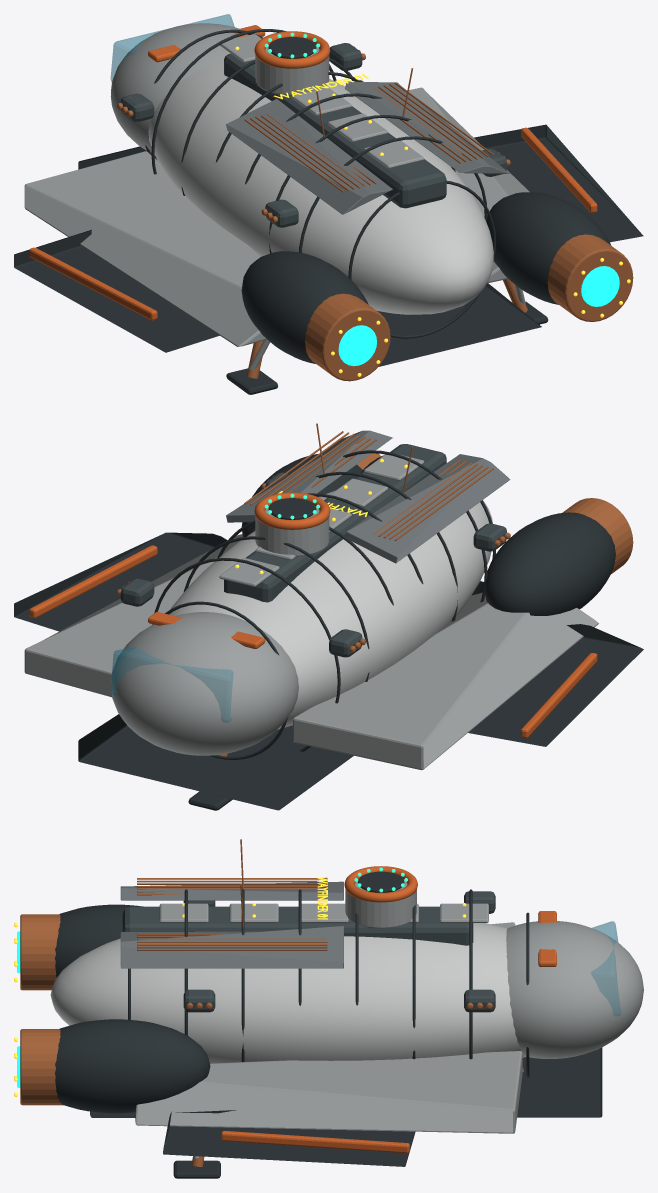
The model's file is wayfinder-courier.glb.
3 views of the same model, one above another, from view 1: azimuth 30°, elevation 25°; view 2: azimuth 150°, elevation 25°; view 3: azimuth 270°, elevation 25° (orthographic). The views are drawn at different scales.
Visible parts, largest first — view 1: Primary pressure hull, Lifting chine -1, Outer wing -1, Engine nacelle -1, FTL heat fin -1, Engine nacelle +1, Ventral heat shield, Forward flight deck, Outer wing +1, Dorsal equipment spine, Main engine bell +1, Main engine bell -1 (+23 smaller); view 2: Primary pressure hull, Lifting chine -1, Forward flight deck, Ventral heat shield, Engine nacelle -1, Lifting chine +1, Outer wing -1, FTL heat fin -1, Outer wing +1, Dorsal equipment spine, FTL heat fin +1, Canopy visor (+20 smaller); view 3: Primary pressure hull, Lifting chine +1, Forward flight deck, Engine nacelle +1, FTL heat fin +1, Outer wing +1, Dorsal equipment spine, Ventral heat shield, FTL heat fin -1, Engine nacelle -1, Main engine bell +1, Main engine bell -1 (+17 smaller).
Boxes of the visible parts, x1=… form: Primary pressure hull: x1=148, y1=60, x2=493, y2=314; Lifting chine -1: x1=24, y1=151, x2=266, y2=346; Outer wing -1: x1=14, y1=229, x2=219, y2=352; Engine nacelle -1: x1=241, y1=251, x2=368, y2=363; FTL heat fin -1: x1=226, y1=99, x2=392, y2=214; Engine nacelle +1: x1=486, y1=192, x2=611, y2=304; Ventral heat shield: x1=78, y1=146, x2=541, y2=366; Forward flight deck: x1=110, y1=23, x2=239, y2=155; Outer wing +1: x1=474, y1=124, x2=643, y2=242; Dorsal equipment spine: x1=224, y1=53, x2=446, y2=208; Main engine bell +1: x1=547, y1=234, x2=633, y2=321; Main engine bell -1: x1=305, y1=293, x2=390, y2=381; Primary pressure hull: x1=169, y1=490, x2=492, y2=729; Lifting chine -1: x1=293, y1=592, x2=598, y2=770; Forward flight deck: x1=110, y1=612, x2=298, y2=755; Ventral heat shield: x1=78, y1=581, x2=483, y2=810; Engine nacelle -1: x1=484, y1=512, x2=615, y2=615; Lifting chine +1: x1=24, y1=534, x2=242, y2=697; Outer wing -1: x1=468, y1=624, x2=643, y2=746; FTL heat fin -1: x1=345, y1=454, x2=510, y2=563; Outer wing +1: x1=14, y1=532, x2=227, y2=631; Dorsal equipment spine: x1=224, y1=444, x2=446, y2=602; FTL heat fin +1: x1=226, y1=430, x2=392, y2=522; Canopy visor: x1=110, y1=647, x2=233, y2=722; Primary pressure hull: x1=50, y1=923, x2=525, y2=1063; Lifting chine +1: x1=135, y1=1051, x2=522, y2=1133; Forward flight deck: x1=506, y1=921, x2=643, y2=1058; Engine nacelle +1: x1=55, y1=1019, x2=210, y2=1113; FTL heat fin +1: x1=120, y1=926, x2=343, y2=968; Outer wing +1: x1=163, y1=1110, x2=415, y2=1166; Dorsal equipment spine: x1=122, y1=906, x2=473, y2=945; Ventral heat shield: x1=90, y1=1047, x2=602, y2=1117; FTL heat fin -1: x1=120, y1=881, x2=343, y2=900; Engine nacelle -1: x1=55, y1=904, x2=142, y2=977; Main engine bell +1: x1=20, y1=1029, x2=62, y2=1105; Main engine bell -1: x1=20, y1=914, x2=60, y2=990.
Size of the model in its own units: 13.6 by 6.22 by 14.38.
